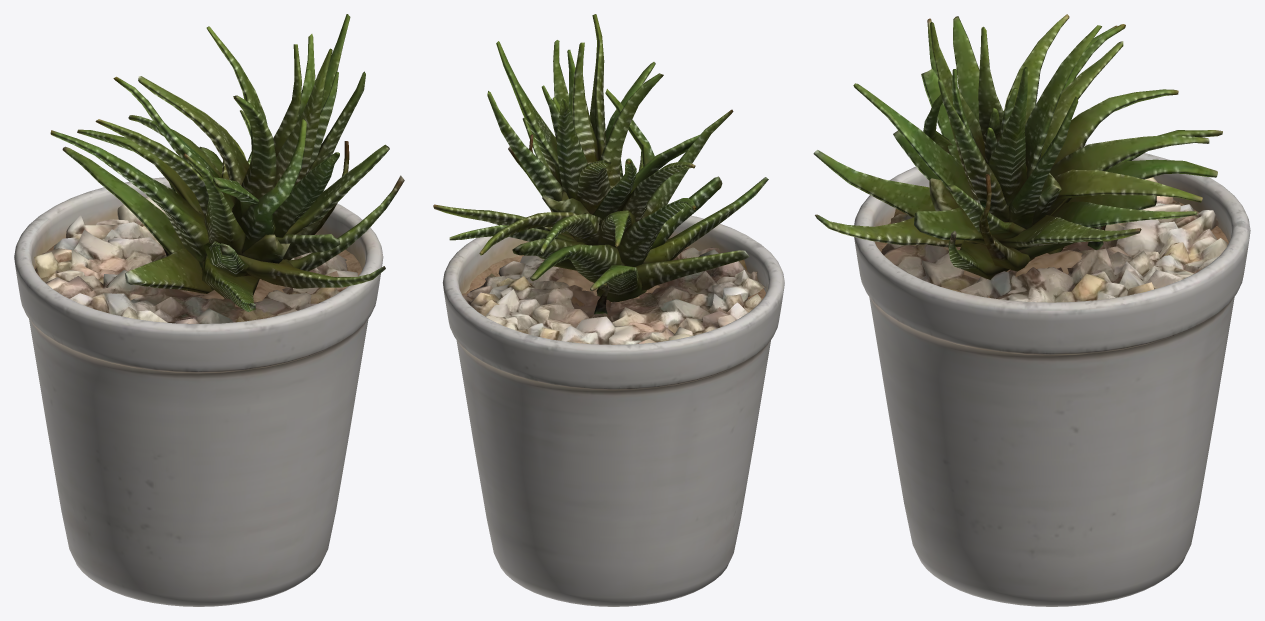
File: potted_plant_04.glb
3 renders of one model, left to right at view 1: azimuth 30°, elevation 25°; view 2: azimuth 150°, elevation 25°; view 3: azimuth 270°, elevation 25°, orthographic. The views are drawn at different scales.
Visible parts, largest first — view 1: potted_plant_04_ground; view 2: potted_plant_04_ground; view 3: potted_plant_04_ground.
Part boxes in pixels (x1,y1,x2,y2): potted_plant_04_ground: [14, 14, 404, 606]; potted_plant_04_ground: [433, 14, 784, 606]; potted_plant_04_ground: [813, 14, 1250, 606].
Bounding box in the file's own units: 0.1679 × 0.2675 × 0.1847.
Materials: 1 (1 with a texture image).
